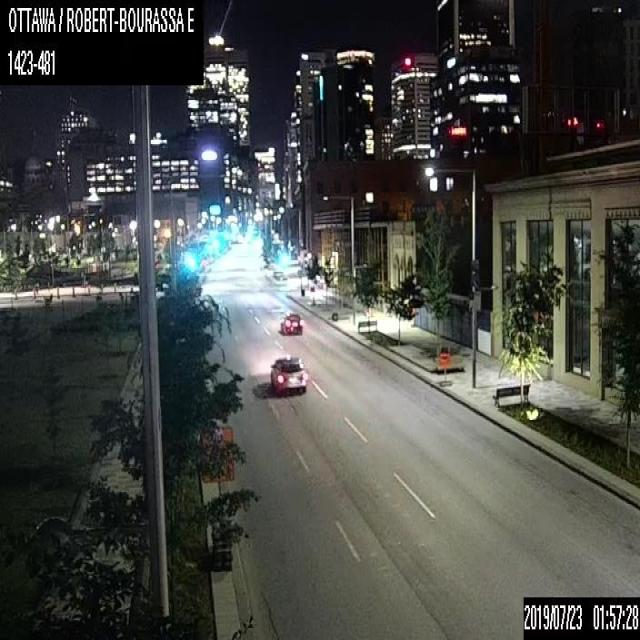construction: (198, 424, 234, 570), (437, 351, 450, 386)
vehicle: (269, 355, 306, 396), (279, 310, 303, 334)
